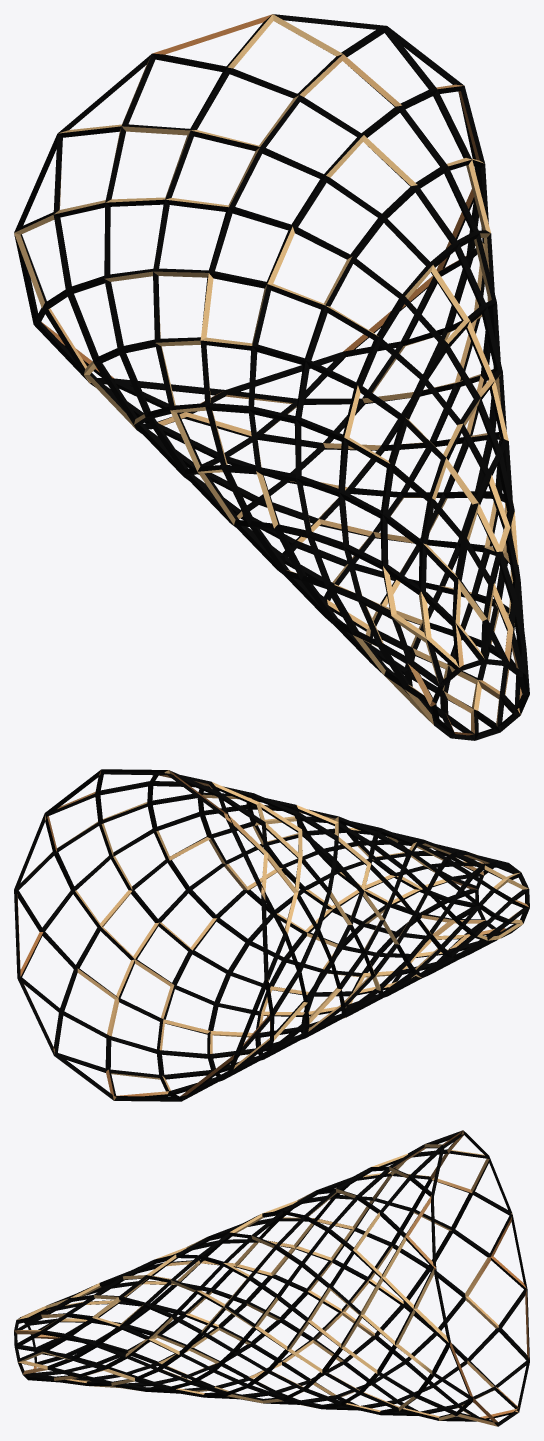
3 views of the same model, one above another, from view 1: azimuth 30°, elevation 25°; view 2: azimuth 150°, elevation 25°; view 3: azimuth 270°, elevation 25° (orthographic). The views are drawn at different scales.
Parts seen in each view (by area): view 1: Cylinder.414; view 2: Cylinder.414; view 3: Cylinder.414.
Boxes of the visible parts, bbox=[...] form: Cylinder.414: bbox=[14, 14, 529, 740]; Cylinder.414: bbox=[14, 769, 529, 1101]; Cylinder.414: bbox=[14, 1130, 529, 1426].
Size of the model in its own units: 1.73 by 1.77 by 3.04.
Materials: 1 (1 with a texture image).
